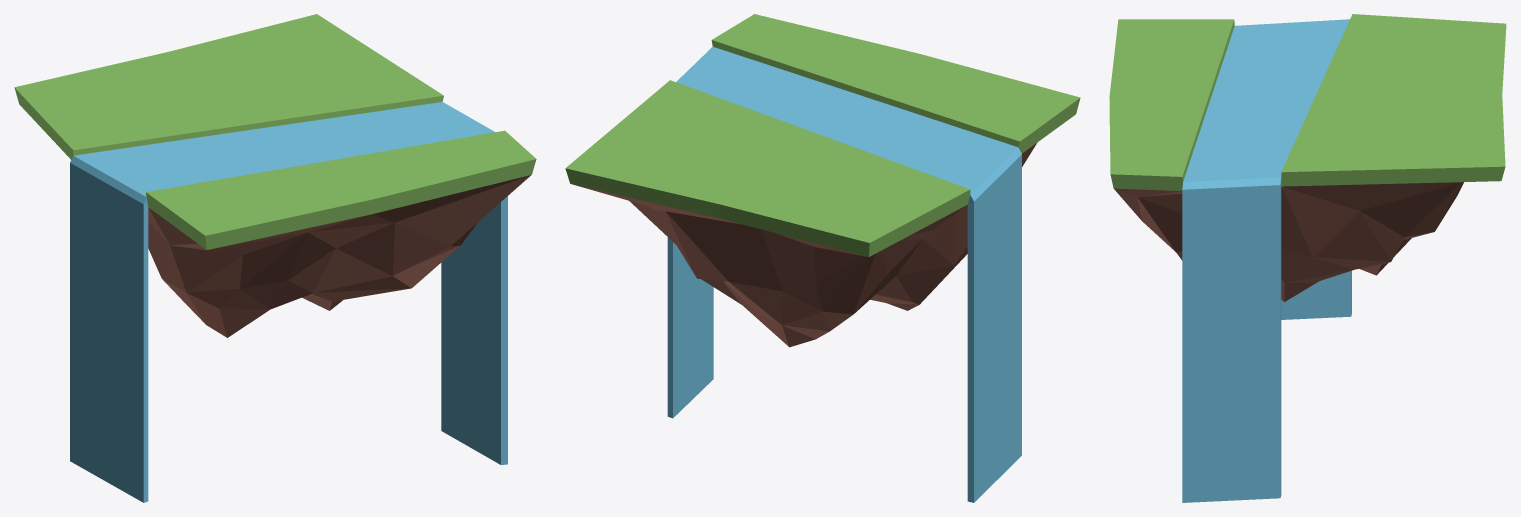
File: Island17_tex.fbx
3 views of the same model, side by side, from view 1: azimuth 30°, elevation 25°; view 2: azimuth 150°, elevation 25°; view 3: azimuth 270°, elevation 25° (orthographic). The views are drawn at different scales.
Parts seen in each view (by area): view 1: Island17_tex; view 2: Island17_tex; view 3: Island17_tex.
Part boxes in pixels (left/top/right/bottom): Island17_tex: left=14, top=14, right=536, bottom=502; Island17_tex: left=565, top=14, right=1080, bottom=502; Island17_tex: left=1109, top=14, right=1506, bottom=502.
Size of the model in its own units: 4.02 by 3.67 by 4.06.
